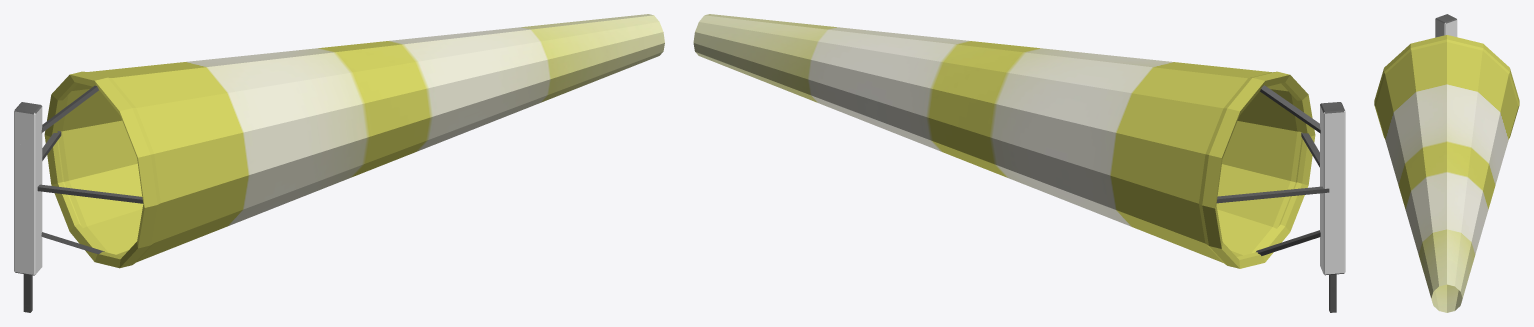
3 renders of one model, left to right at view 1: azimuth 30°, elevation 25°; view 2: azimuth 150°, elevation 25°; view 3: azimuth 270°, elevation 25°, orthographic. The views are drawn at different scales.
Parts seen in each view (by area): view 1: WS-1.obj; view 2: WS-1.obj; view 3: WS-1.obj.
Boxes of the visible parts, x1,y1,x2,y2 form: WS-1.obj: [14, 14, 664, 312]; WS-1.obj: [693, 14, 1345, 312]; WS-1.obj: [1374, 14, 1519, 312].
Bounding box in the file's own units: 5.31 × 1.7 × 1.44.
